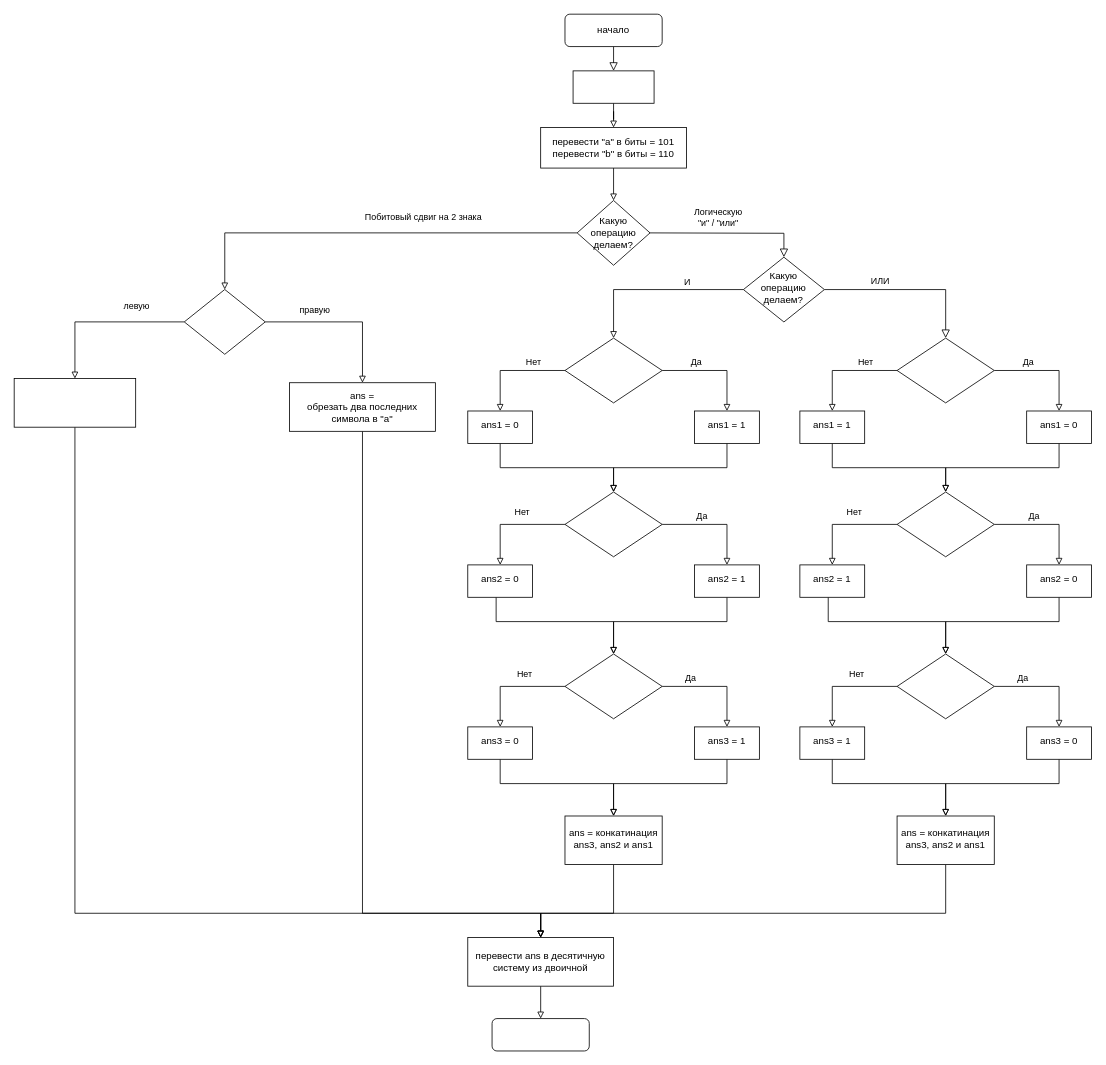
The diagram is 1106 pixels wide and 1065 high, and some of its shapes have lost their labels. Here are the shapes that lost their labels. From the top down, the centre of each, then its label:
the point at 613,86: a = 5 b = 6
the point at 224,321: В какую сторону
the point at 613,370: в первом разряде "a" и "b" стоит 1?
the point at 945,370: в первом разряде "a" и "b" стоит 0?
the point at 74,402: ans = конкатинация "a" и двух нулей "00"
the point at 613,524: во втором разряде "a" и "b" стоит 1?
the point at 945,524: во втором разряде "a" и "b" стоит 0?
the point at 613,686: во третьем разряде "a" и "b" стоит 1?
the point at 945,686: во третьем разряде "a" и "b" стоит 0?
the point at 540,1034: конец
